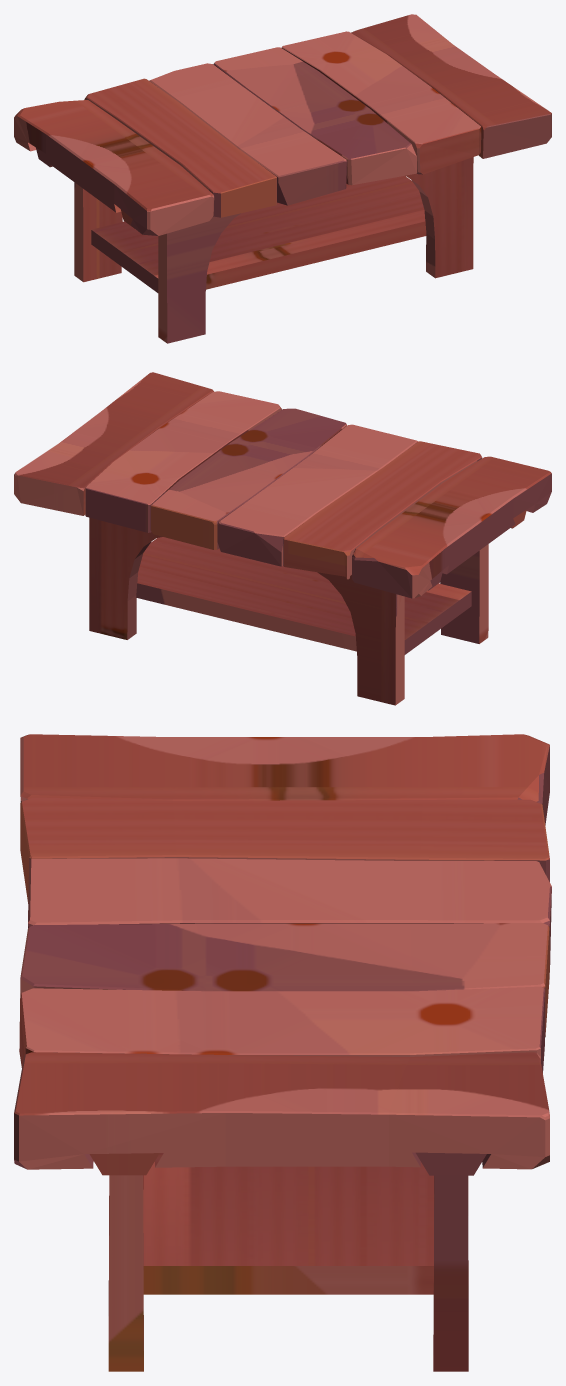
File: Table.fbx
3 renders of one model, top to bottom at view 1: azimuth 30°, elevation 25°; view 2: azimuth 150°, elevation 25°; view 3: azimuth 270°, elevation 25°, orthographic. The views are drawn at different scales.
Visible parts, largest first — view 1: Table.001; view 2: Table.001; view 3: Table.001.
Boxes of the visible parts, x1,y1,x2,y2 form: Table.001: [14, 14, 551, 343]; Table.001: [14, 372, 551, 705]; Table.001: [14, 734, 551, 1371].
Size of the model in its own units: 138 by 232 by 88.
